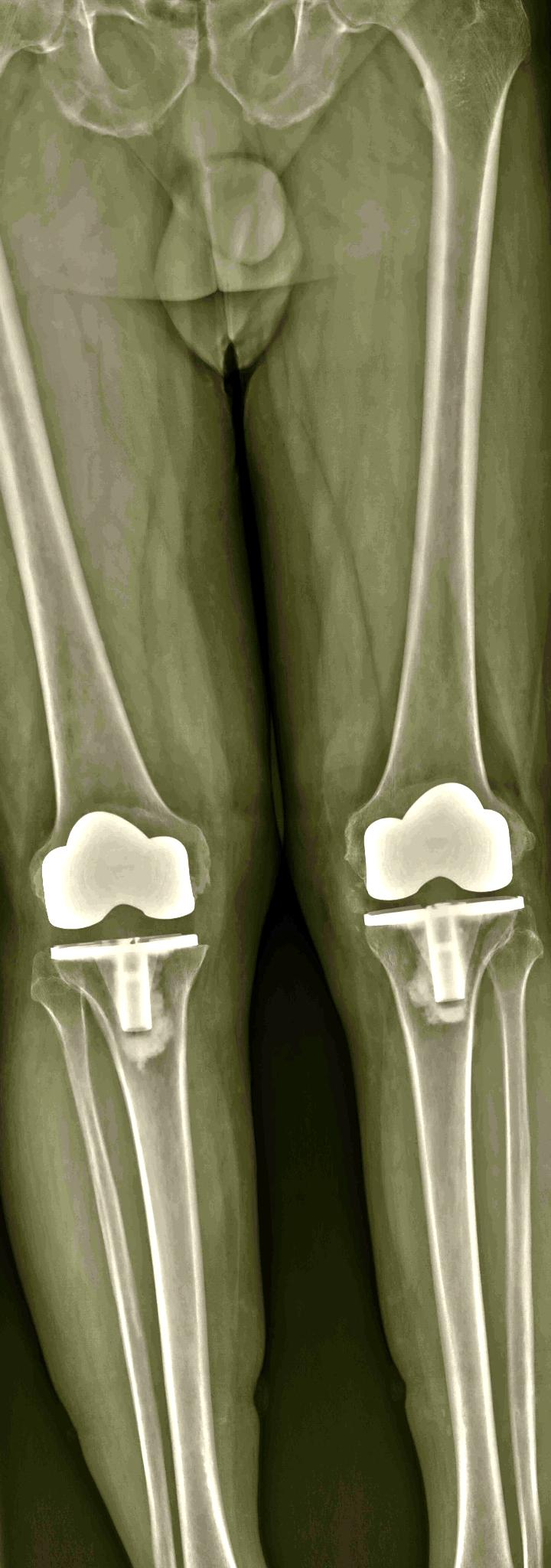Leg Fibula: (35, 977, 176, 1568), (489, 914, 542, 1568)
Leg Tibia: (52, 935, 235, 1568), (365, 898, 523, 1568)
femur: (349, 0, 529, 907), (0, 244, 208, 929), (0, 0, 62, 74)
